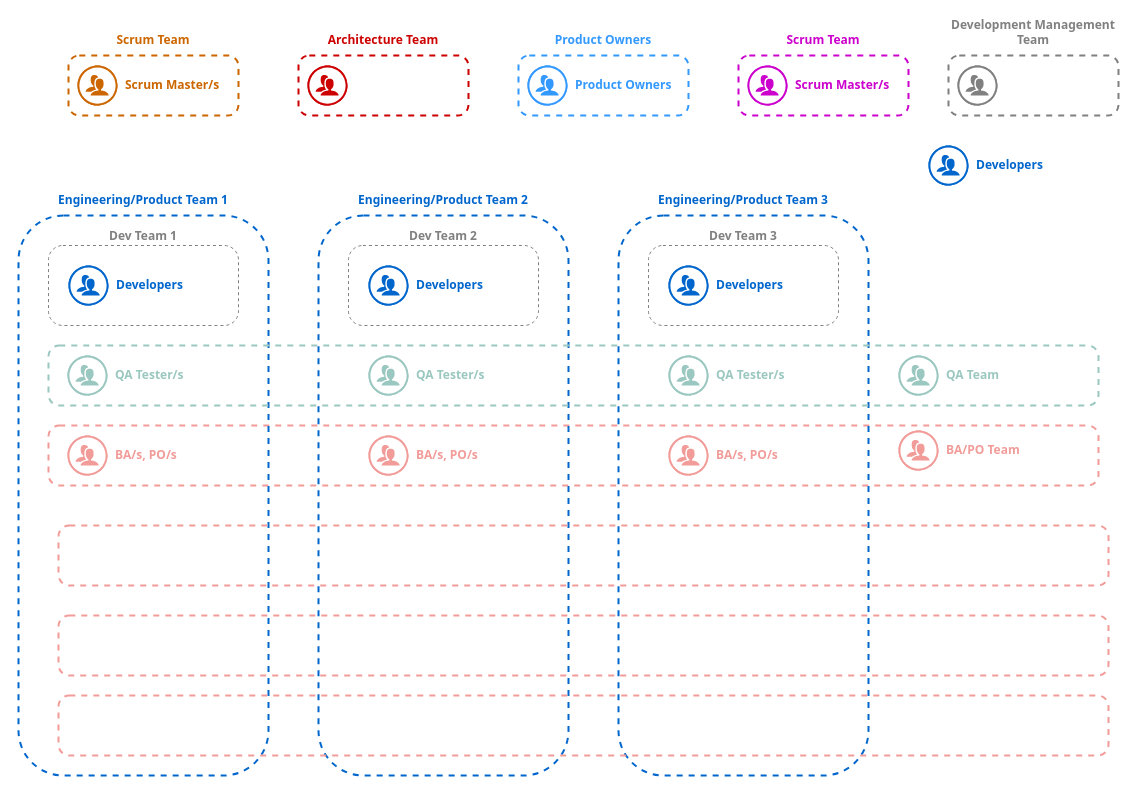
The diagram is 1136 pixels wide and 793 high, and some of its shapes have lost their labels. The centre of each missing label's shape, as x and y in pixels:
Development Managers: [977,85]
Technical Architects: [327,85]
